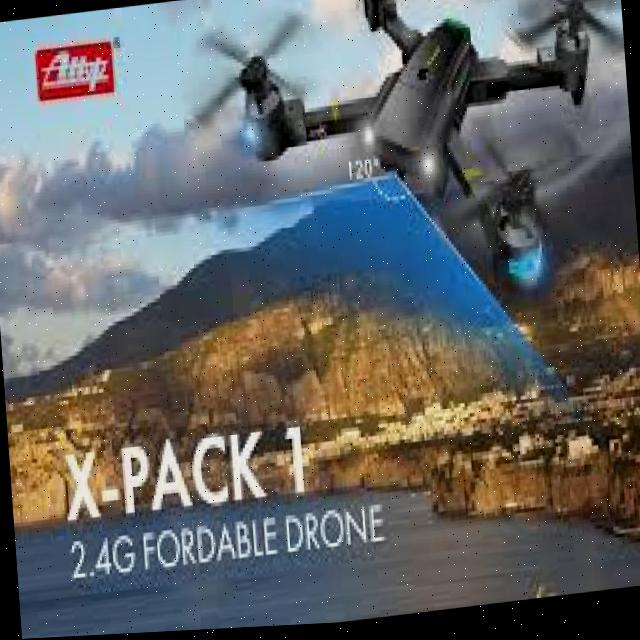drone: (195, 0, 640, 351)
